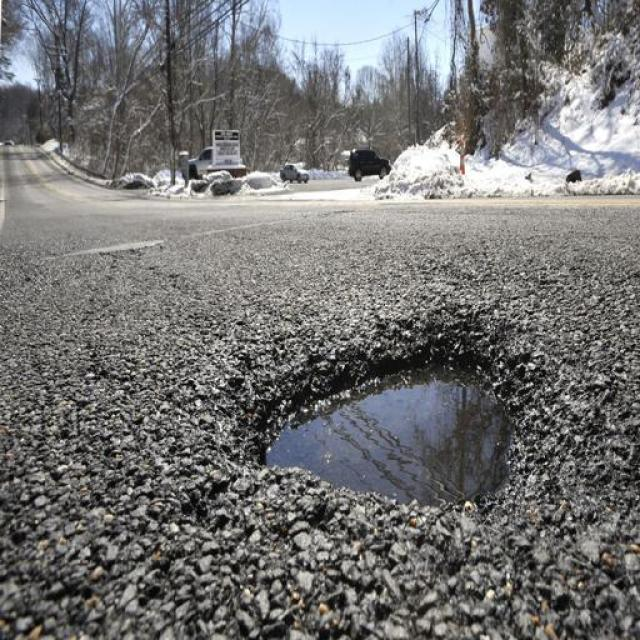puddle: (260, 346, 541, 514)
